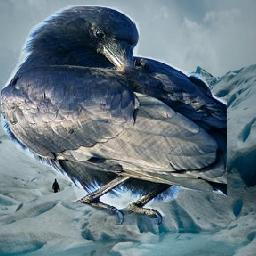Crow: (1, 5, 227, 225)
